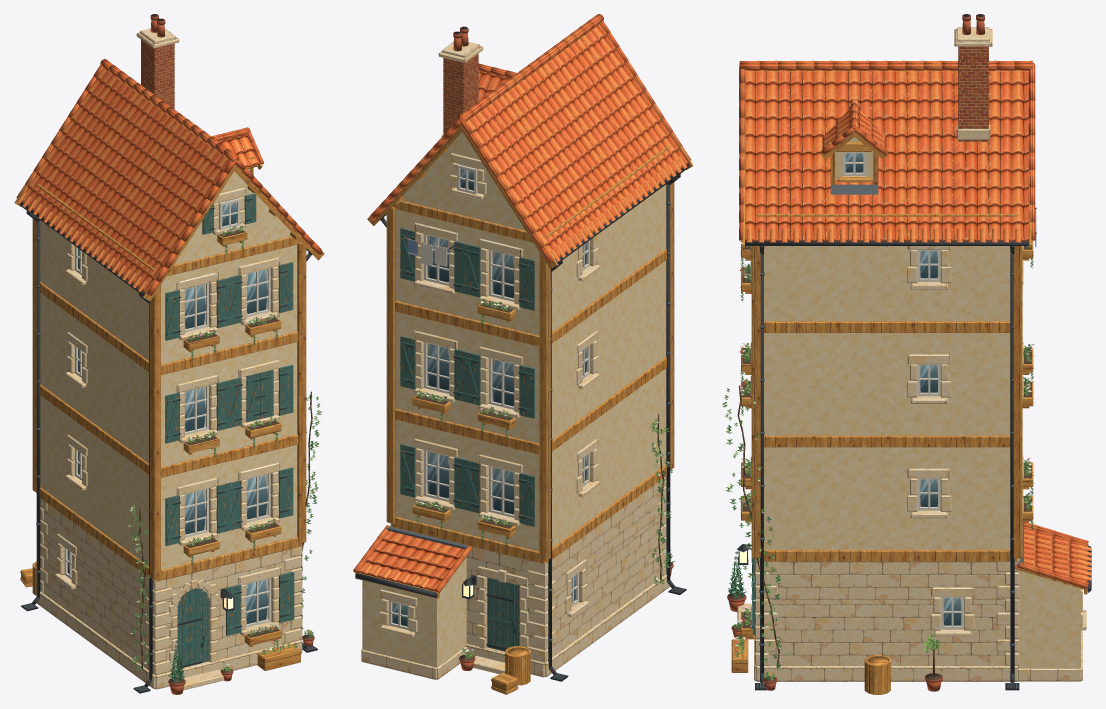
3 views of the same model, side by side, from view 1: azimuth 30°, elevation 25°; view 2: azimuth 150°, elevation 25°; view 3: azimuth 270°, elevation 25° (orthographic). The views are drawn at different scales.
Visible parts, largest first — view 1: seaside_plaster, seaside_stone, seaside_roof, seaside_timber, seaside_shutter, house_paint, house_window_pane, detail_window_boxes, alt_chimney_brick, detail_vines, seaside_ridge, detail_planters (+2 smaller); view 2: seaside_plaster, seaside_roof, seaside_stone, seaside_timber, seaside_shutter, house_paint, house_window_pane, detail_window_boxes, alt_chimney_brick, seaside_ridge, detail_yard, detail_vines (+1 smaller); view 3: seaside_plaster, seaside_roof, seaside_stone, seaside_timber, house_paint, alt_chimney_brick, detail_window_boxes, seaside_ridge, house_window_pane, detail_vines, detail_planters, detail_yard.
Boxes of the visible parts, box(x1,y1,x2,y2) form: seaside_plaster: box(40, 168, 297, 569); seaside_stone: box(36, 187, 302, 690); seaside_roof: box(16, 65, 322, 295); seaside_timber: box(14, 69, 324, 581); seaside_shutter: box(165, 193, 294, 666); house_paint: box(18, 198, 317, 693); house_window_pane: box(67, 200, 268, 624); detail_window_boxes: box(183, 226, 281, 649); alt_chimney_brick: box(136, 14, 179, 108); detail_vines: box(128, 391, 321, 670); seaside_ridge: box(100, 59, 250, 163); detail_planters: box(168, 629, 314, 694); seaside_plaster: box(362, 132, 666, 667); seaside_roof: box(353, 21, 691, 593); seaside_stone: box(361, 153, 670, 679); seaside_timber: box(355, 25, 693, 598); seaside_shutter: box(400, 228, 534, 651); house_paint: box(355, 164, 688, 681); house_window_pane: box(392, 166, 586, 626); detail_window_boxes: box(412, 298, 515, 547); alt_chimney_brick: box(438, 26, 483, 136); seaside_ridge: box(457, 14, 603, 121); detail_yard: box(459, 646, 530, 694); detail_vines: box(650, 414, 672, 584); seaside_plaster: box(764, 137, 1080, 668); seaside_roof: box(739, 63, 1091, 588); seaside_stone: box(737, 246, 1086, 681); seaside_timber: box(742, 71, 1087, 594); house_paint: box(737, 152, 1091, 690); alt_chimney_brick: box(954, 14, 992, 141); detail_window_boxes: box(739, 241, 1034, 646); seaside_ridge: box(739, 60, 1032, 127); house_window_pane: box(845, 153, 961, 625); detail_vines: box(722, 385, 788, 670); detail_planters: box(727, 551, 777, 690); detail_yard: box(864, 633, 942, 694).
Size of the model in its own units: 5.19 by 15.13 by 7.91.
Materials: 10 (9 with a texture image).
